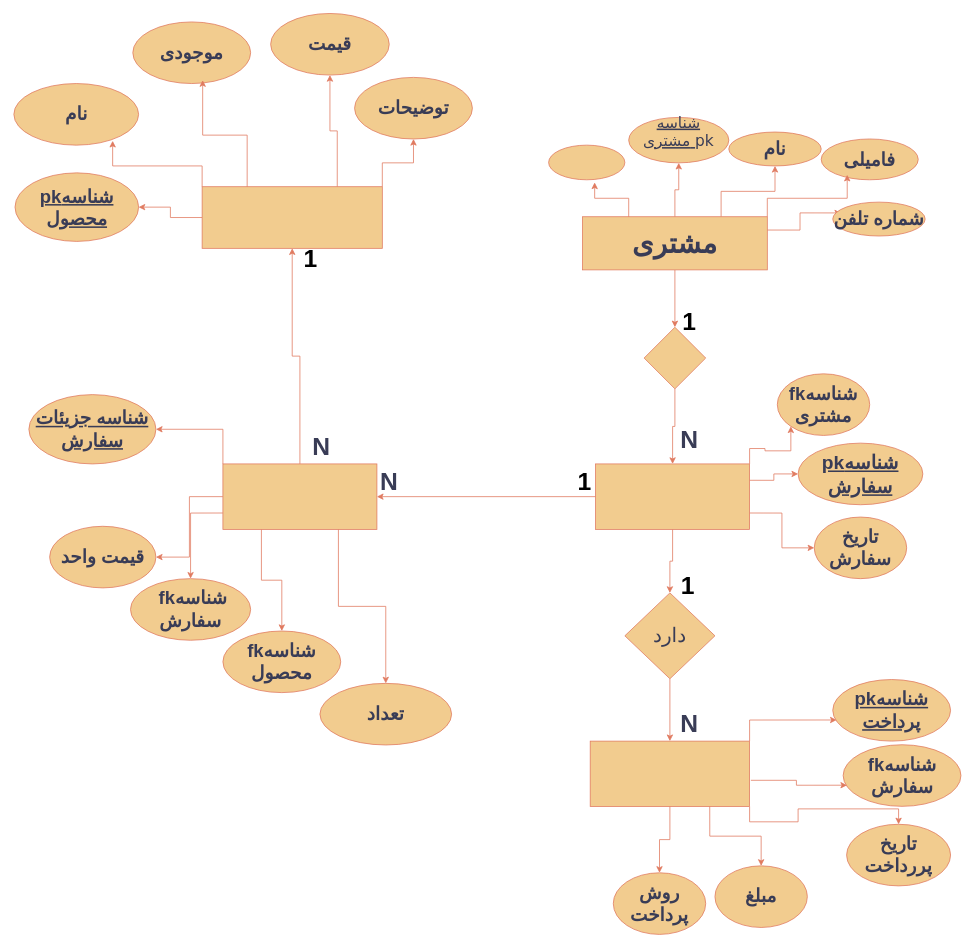
Image size: 974x952. Some labels were removed from this diagram. The centre of each missing label's shape, as x and y in pixels:
"ایمیل" goes at point 586,162.
"جزییات سفارش" goes at point 299,496.
"داشتن" goes at point 674,357.
"سفارش" goes at point 672,496.
"محصول" goes at point 291,217.
"پرداخت" goes at point 669,773.
